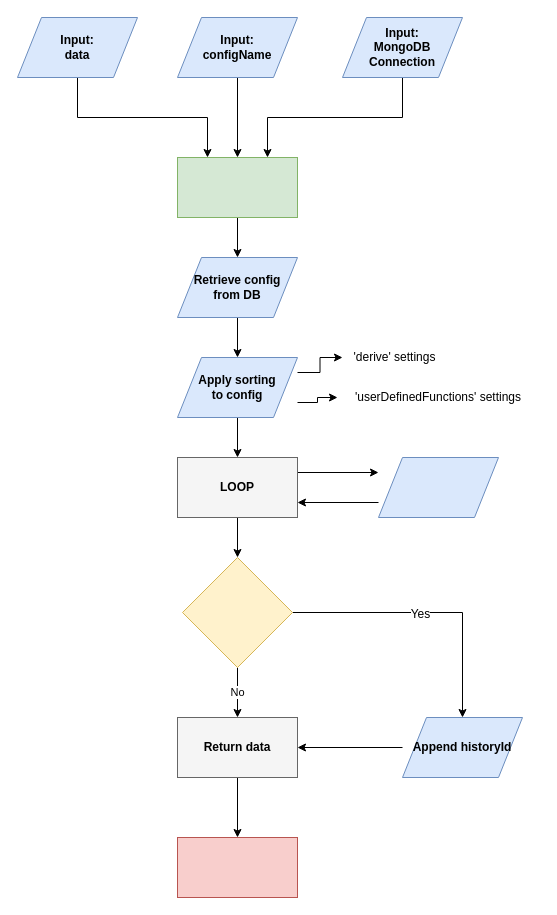
Image size: 557x915. Some labels were removed from this diagram. Each missing label, with the centre of its shape:
"dwmOne" belongs at (438,487).
"START" belongs at (237,187).
"STOP" belongs at (237,867).
"writeContactHistory AND returnHistoryId?" belongs at (237,612).
